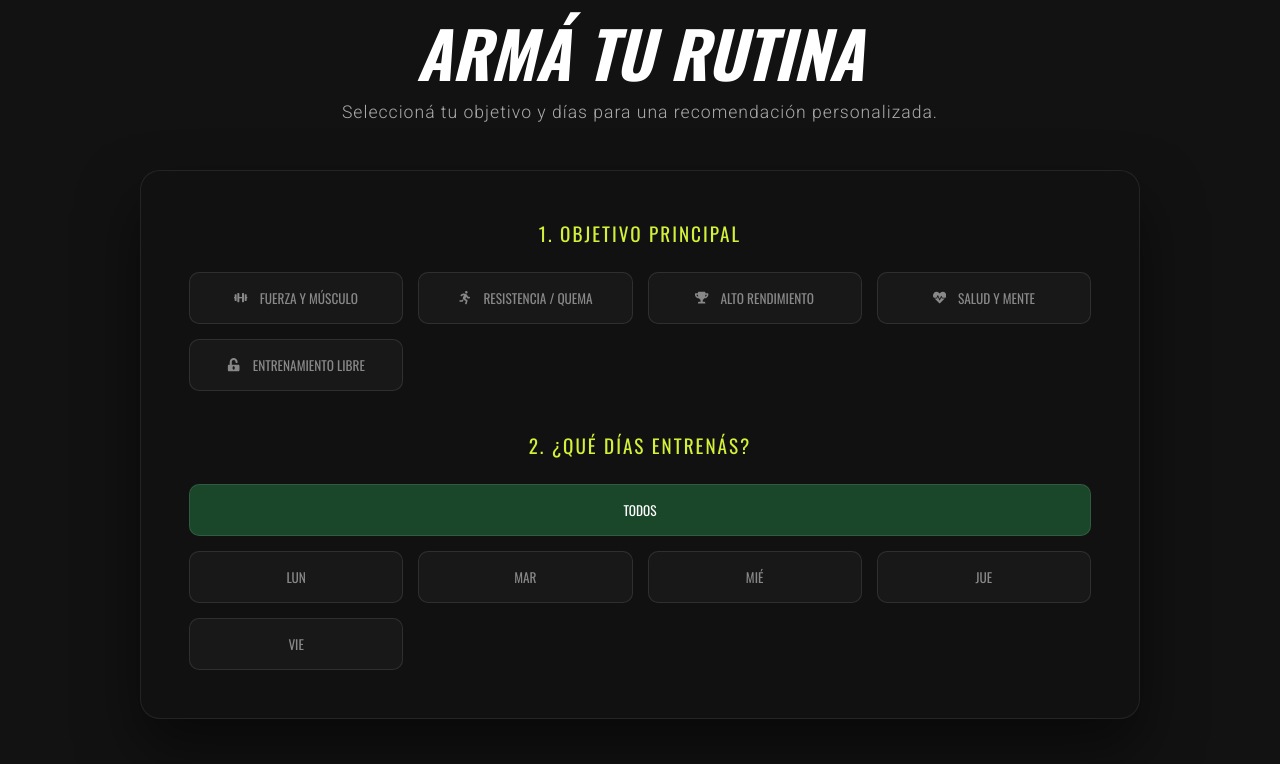
Horarios — filtrado por objetivo › un día sin ninguna clase que matchee el objetivo elegido muestra la columna vacía sin crashear
(page scrolled)
Click the button "Entrenamiento Libre". click: (296, 365)
box: [189, 339, 403, 391]
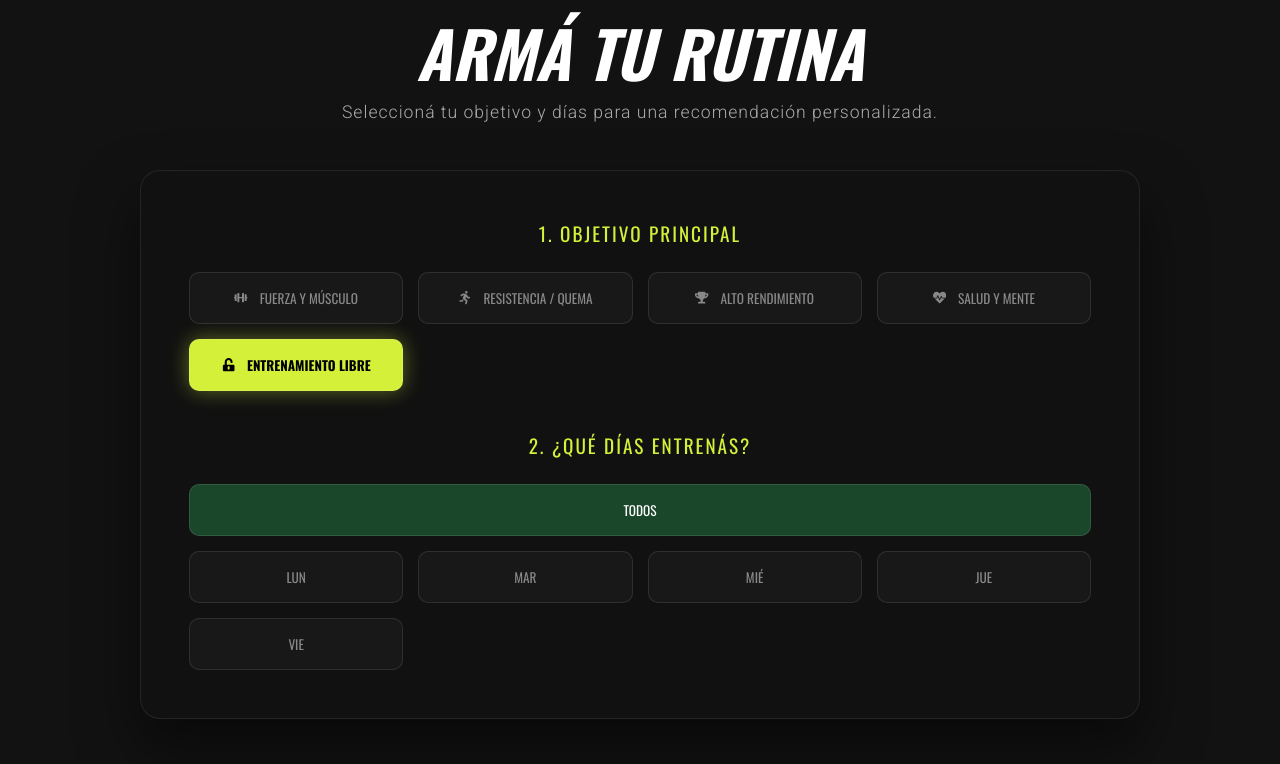
Click the button "Lun". click: (296, 577)
box: [189, 551, 403, 603]
(page scrolled)
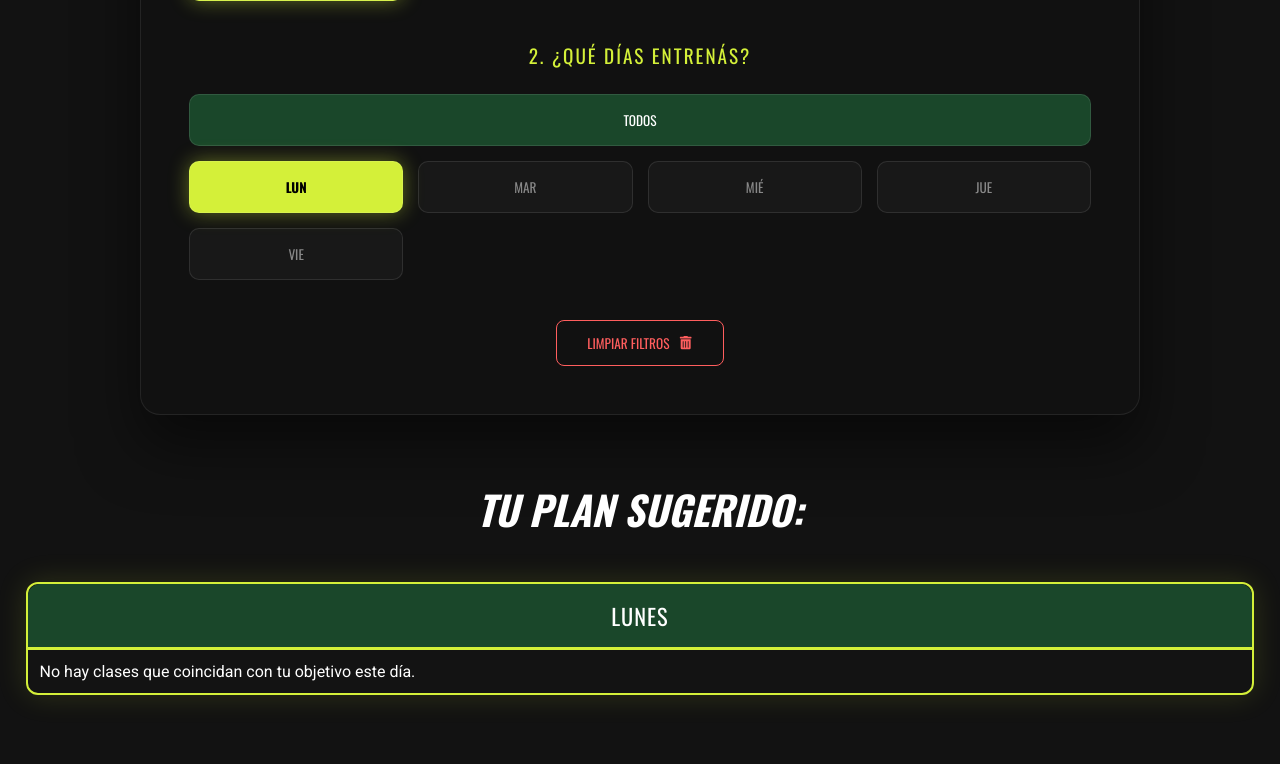
Result: the heading "Tu Plan Sugerido:" is shown at [477, 479, 803, 539]
